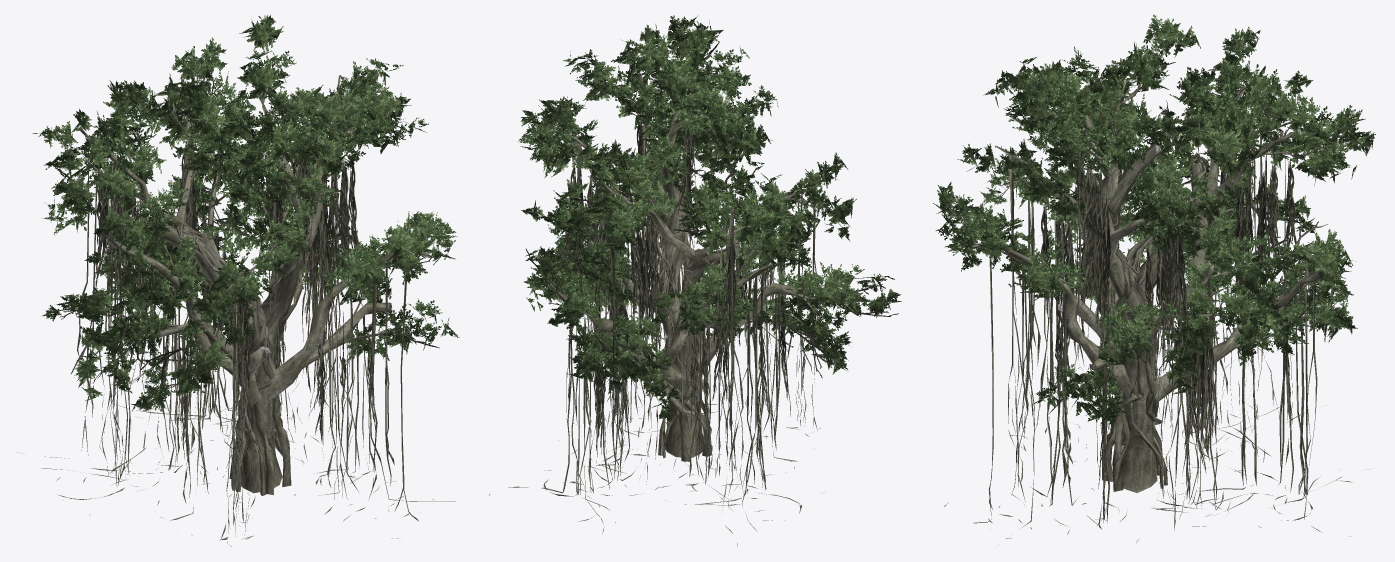
File: cay-da.glb
The picture shows the model from 3 angles, left to right: view 1: azimuth 30°, elevation 25°; view 2: azimuth 150°, elevation 25°; view 3: azimuth 270°, elevation 25°; orthographic projection. The views are drawn at different scales.
Parts seen in each view (by area): view 1: ChineseBanyan_Med; view 2: ChineseBanyan_Med; view 3: ChineseBanyan_Med.
Part boxes in pixels (left/top/right/bottom): ChineseBanyan_Med: left=17, top=14, right=459, bottom=546; ChineseBanyan_Med: left=489, top=15, right=901, bottom=546; ChineseBanyan_Med: left=933, top=14, right=1375, bottom=542.
Bounding box in the file's own units: 0.8774 × 0.9998 × 0.858.
Materials: 7 (7 with a texture image).
